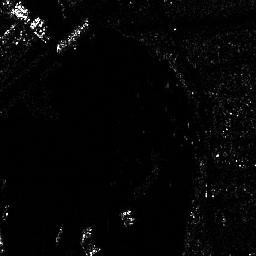ship: (56, 20, 88, 53)
